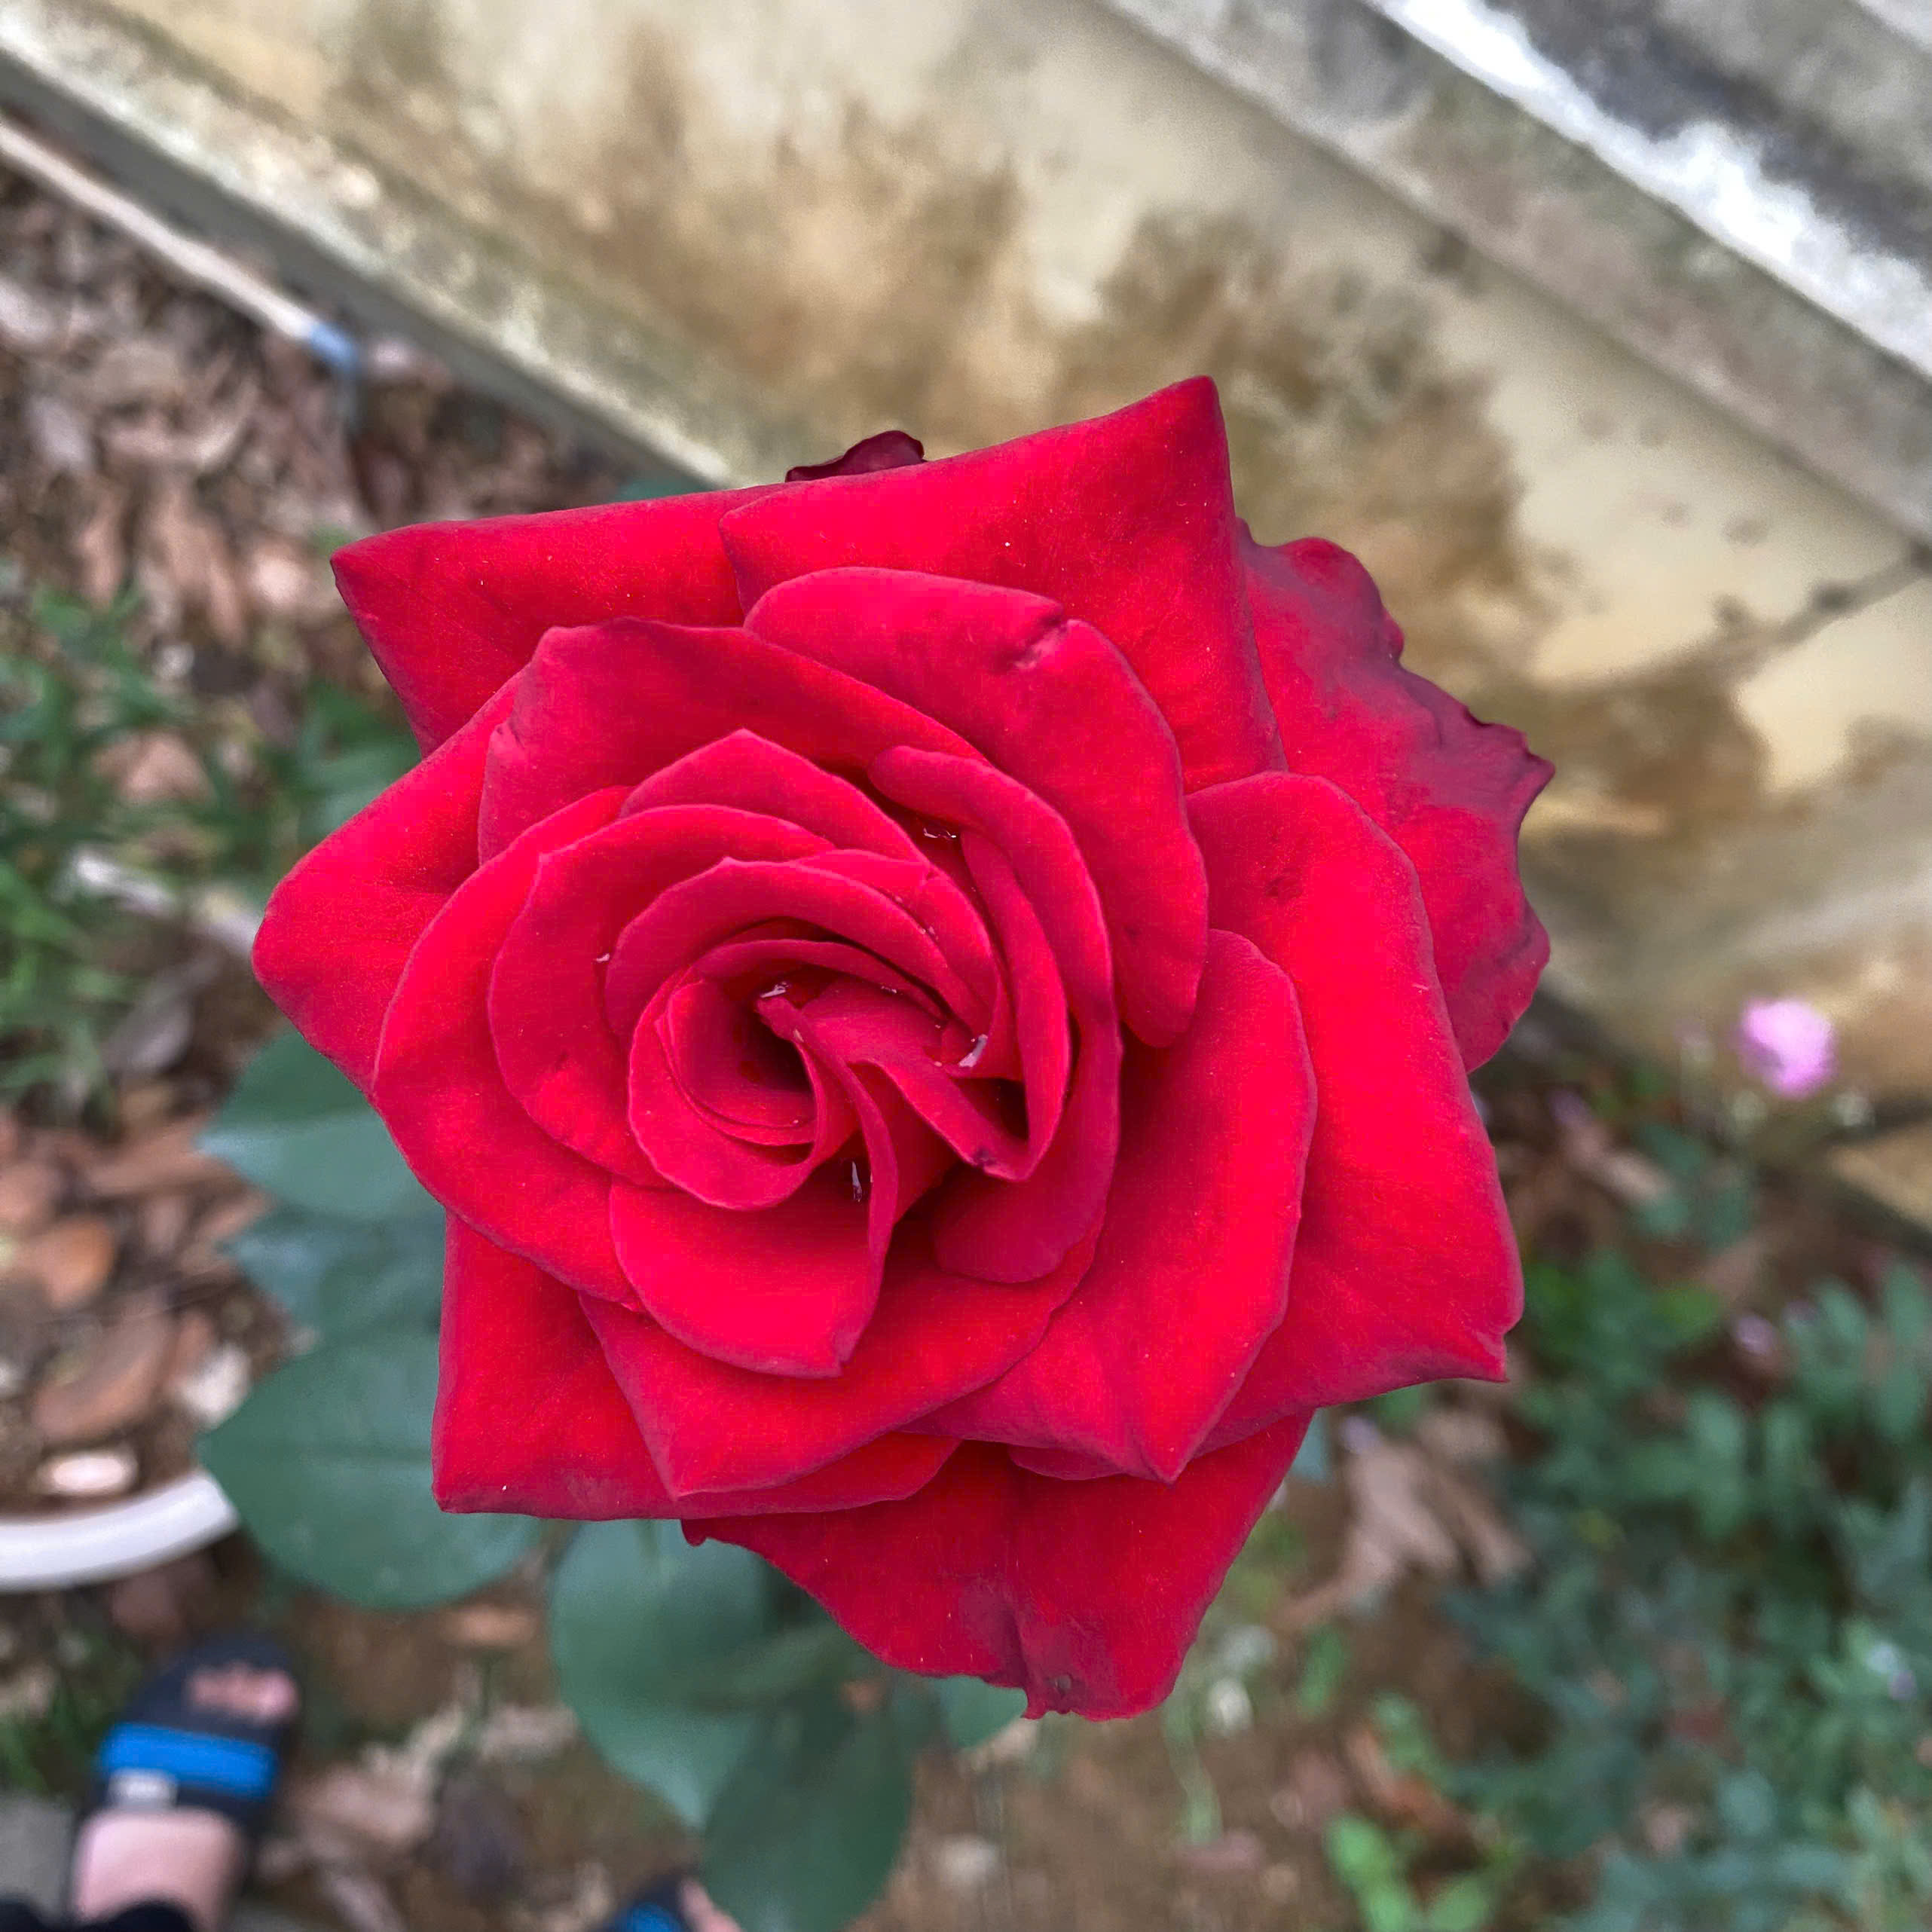hoa_hong_do: (198, 416, 1640, 1743)
